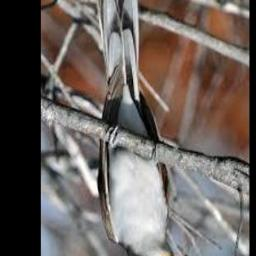Cuckoo: (96, 0, 186, 256)
